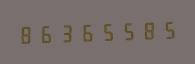eight: (17, 22, 36, 46), (137, 18, 156, 41)
five: (157, 17, 176, 41), (97, 20, 116, 43), (117, 19, 136, 42)
six: (77, 20, 96, 44), (37, 22, 56, 45)
three: (57, 21, 76, 44)
